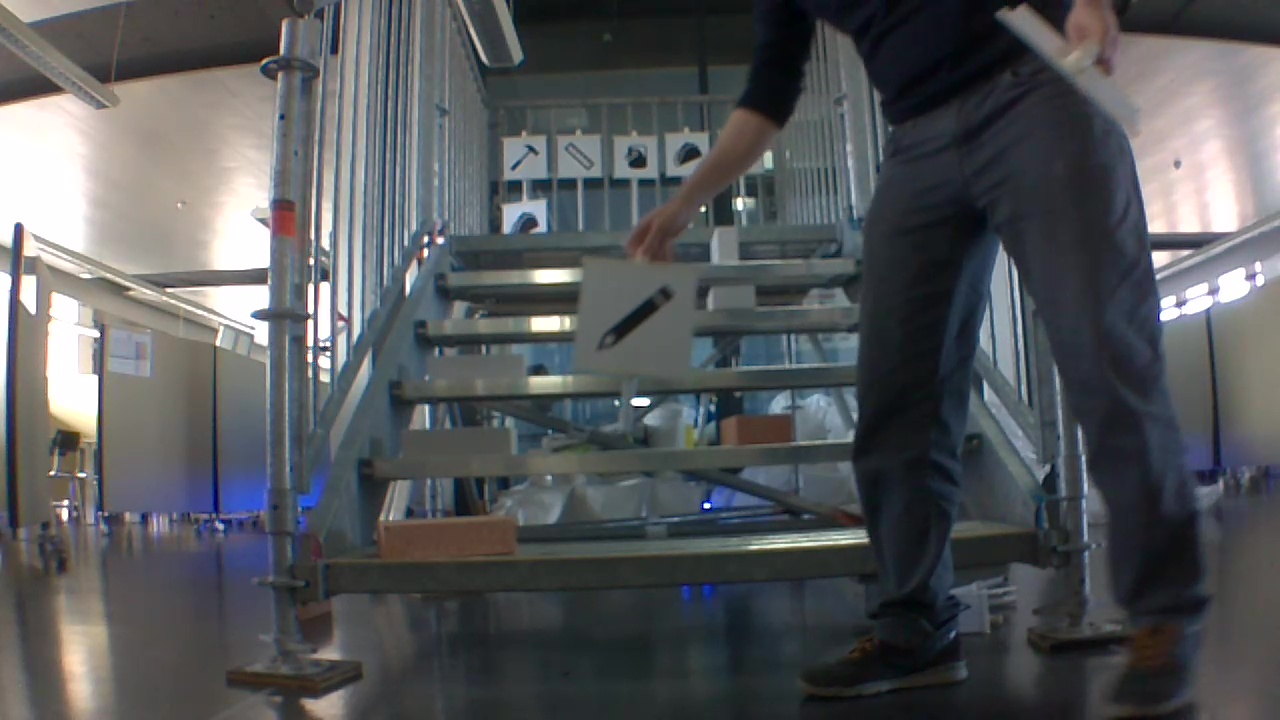brick: (376, 514, 518, 563), (393, 427, 520, 459), (427, 352, 527, 384), (720, 409, 799, 448), (705, 286, 754, 313), (711, 227, 739, 262)
bucket: (623, 141, 652, 171)
edge: (322, 534, 866, 597), (360, 438, 852, 487)
hammer: (511, 140, 545, 170)
pencil: (596, 282, 677, 353)
ruler: (561, 139, 595, 172)
taco: (673, 141, 705, 169), (508, 208, 539, 235)
